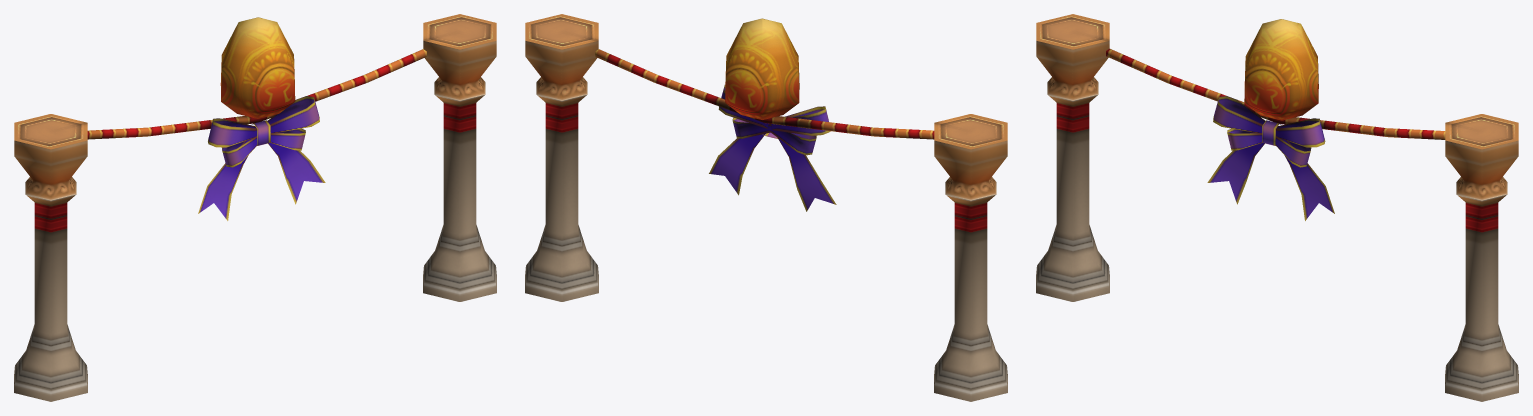
Rendered from Egg_Pole.FBX.
The picture shows the model from 3 angles, left to right: view 1: azimuth 30°, elevation 25°; view 2: azimuth 150°, elevation 25°; view 3: azimuth 330°, elevation 25°; orthographic projection.
Visible parts, largest first — view 1: Egg_Pole; view 2: Egg_Pole; view 3: Egg_Pole.
Boxes of the visible parts, left/top/right/bottom form: Egg_Pole: left=14, top=14, right=496, bottom=401; Egg_Pole: left=525, top=14, right=1007, bottom=401; Egg_Pole: left=1036, top=14, right=1518, bottom=401.
Size of the model in its own units: 257 by 160 by 34.82.
